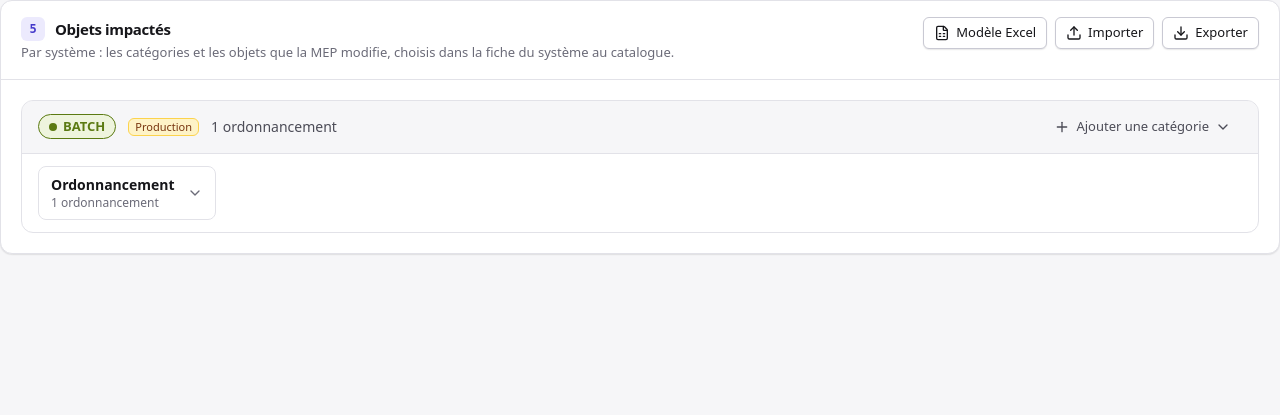
it: Objets impactés › un bloc par système : environnements, résumé, tuiles par catégorie et détail
Expected: the text "Production" is shown, [128, 118, 199, 136]
Expected: the text "1 ordonnancement" is shown 2 times, [211, 116, 337, 136]; [51, 194, 175, 210]
Click the button "Ordonnancement 1 ordonnancement" at (127, 192), box [38, 166, 216, 220]
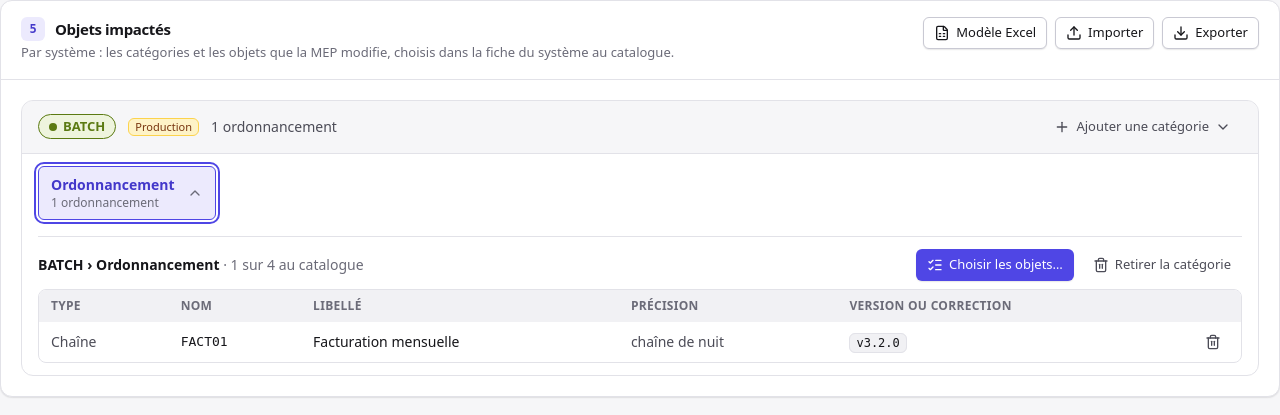
Expected: the text "· 1 sur 4 au catalogue" is shown, [220, 254, 364, 274]
Expected: the text "FACT01" shows "Facturation mensuelle", [313, 332, 459, 350]
Expected: the text "FACT01" shows "v3.2.0", [856, 336, 900, 350]
